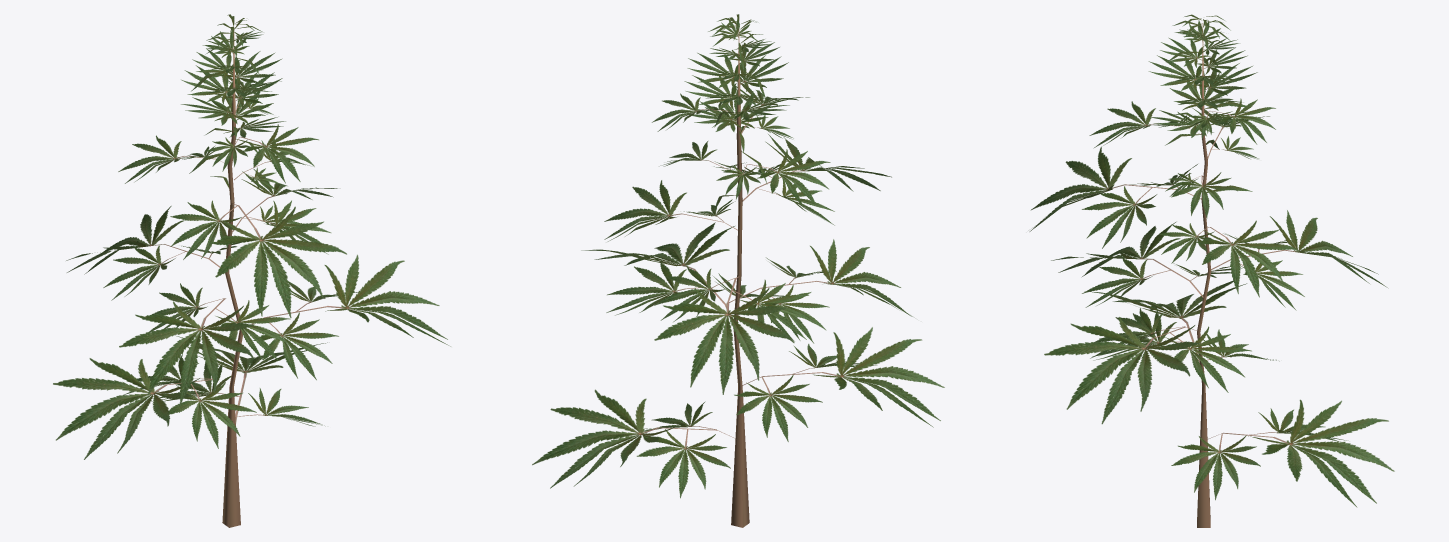
The model's file is small_cannabis_plant.glb.
The picture shows the model from 3 angles, left to right: view 1: azimuth 30°, elevation 25°; view 2: azimuth 150°, elevation 25°; view 3: azimuth 270°, elevation 25°; orthographic projection.
Visible parts, largest first — view 1: Small Cannabis Plant; view 2: Small Cannabis Plant; view 3: Small Cannabis Plant.
Part boxes in pixels (x1,y1,x2,y2): Small Cannabis Plant: (53, 14, 450, 527); Small Cannabis Plant: (532, 14, 944, 527); Small Cannabis Plant: (1029, 14, 1394, 527).
Bounding box in the file's own units: 1 × 1.16 × 0.8872.
1 material, 1 textured.
